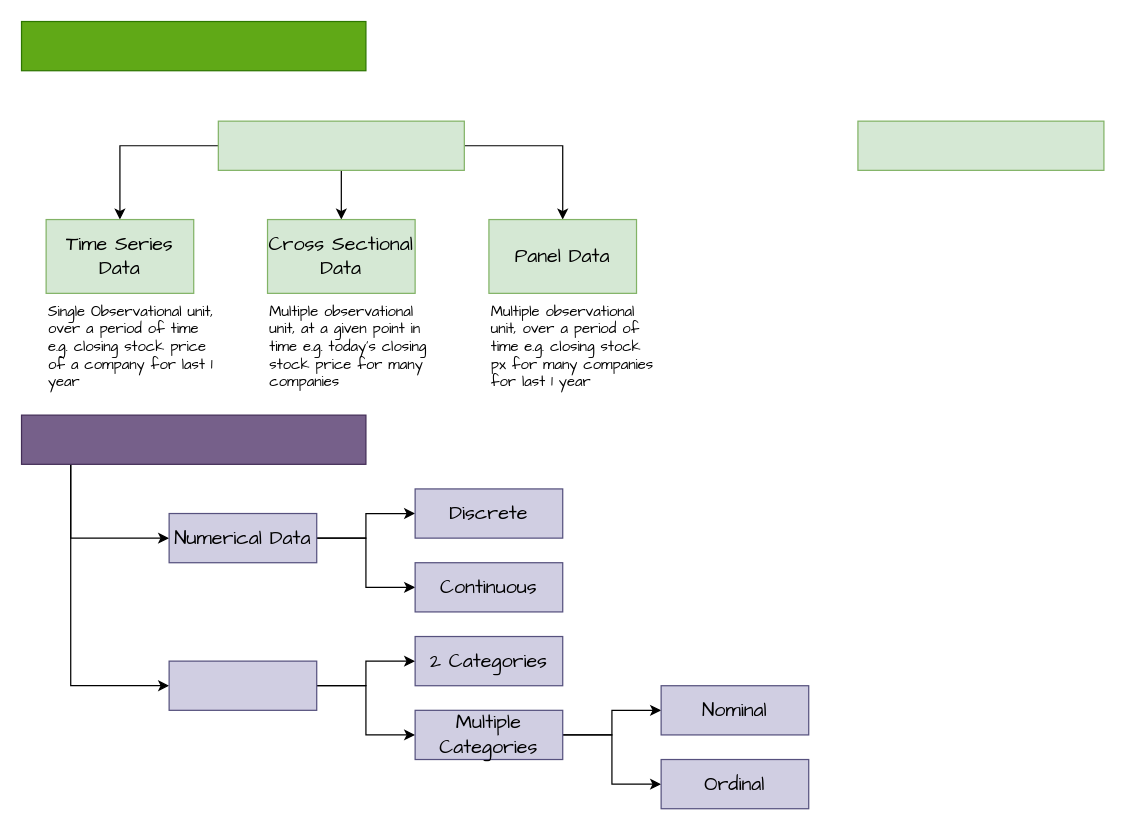
Some shapes in this 1125 by 830 pixel diagram are drawn without their labels. Here are the shapes that lost their labels. From the top down, the centre of each, then its label:
[193,45]: Data Organization
[340,145]: Structured Data data is organized in rows and columns
[980,145]: Un-structured Data data is organized in forms of free text
[193,439]: Data Classification
[242,685]: Categorical Data
